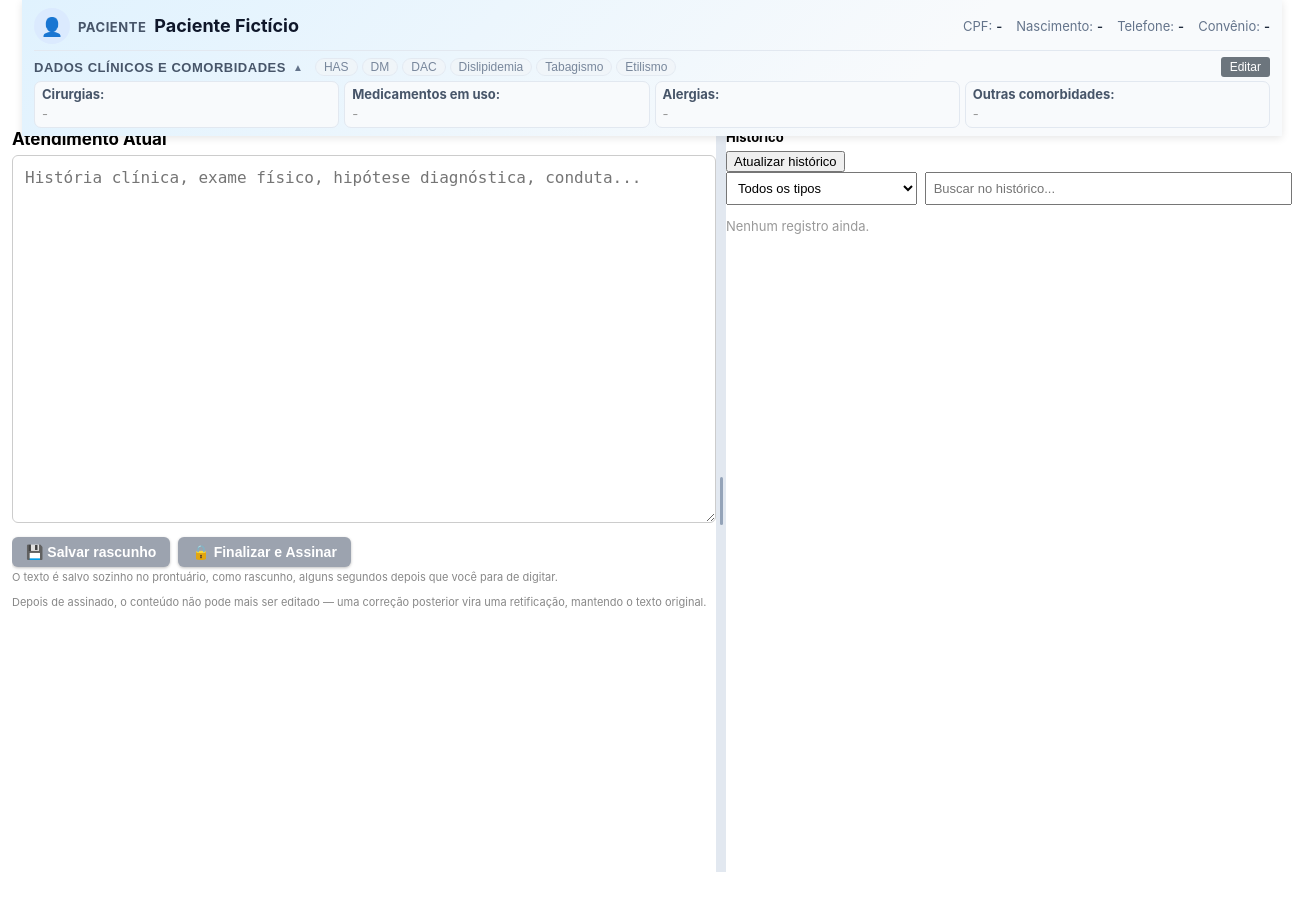
Test: salvamento automático no prontuário › digitar durante uma gravação: a cópia da aba guarda o texto novo, não o enviado
Expected: the text "Nenhum registro ainda." is shown, [726, 218, 869, 234]
Replace the text in the text box named "Atendimento atual" with "Antes" at (364, 339), box [12, 155, 716, 523]
Wait 10000 ms
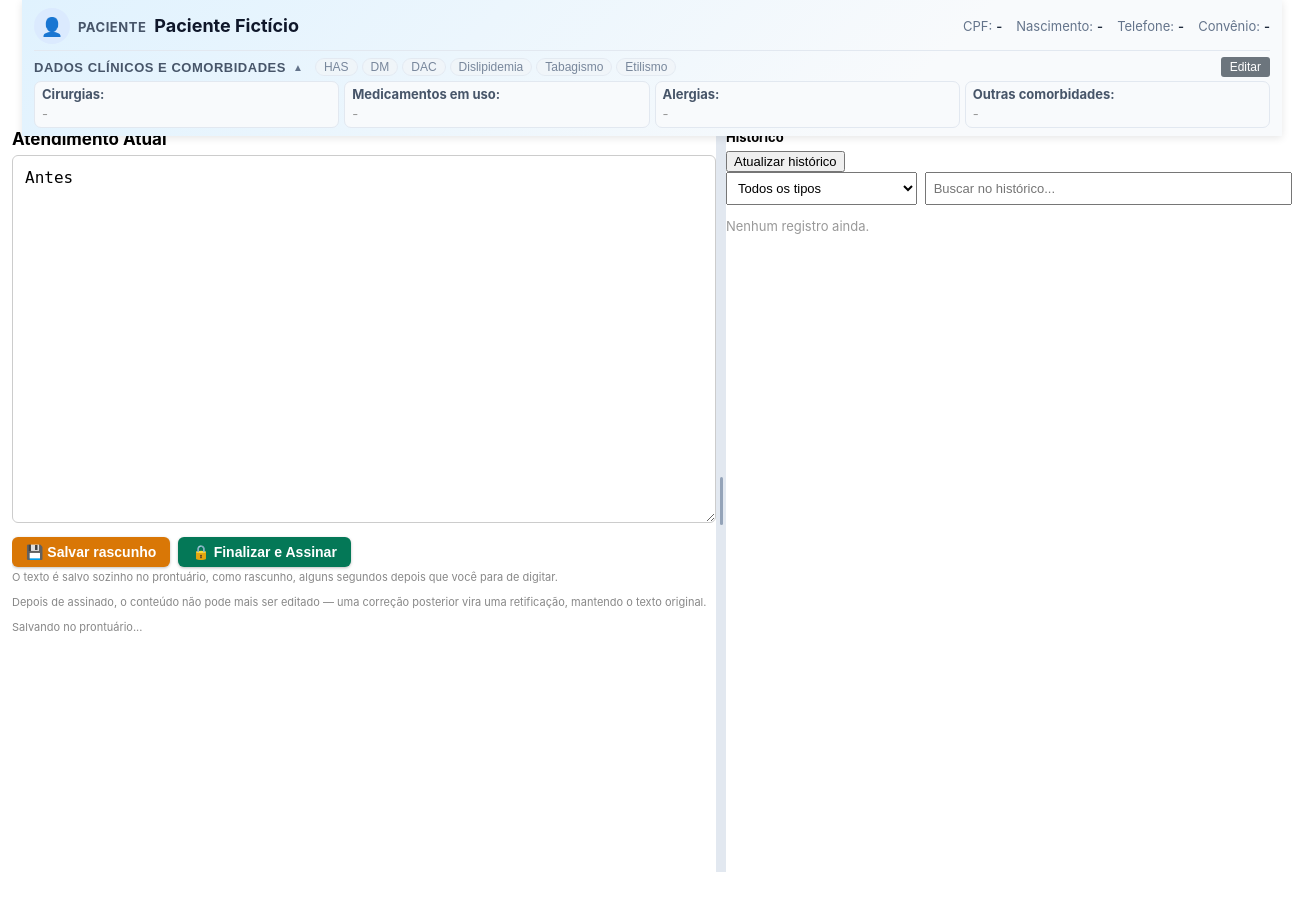
Replace the text in the text box named "Atendimento atual" with "Antes e depois" at (364, 339), box [12, 155, 716, 523]
Wait 2000 ms
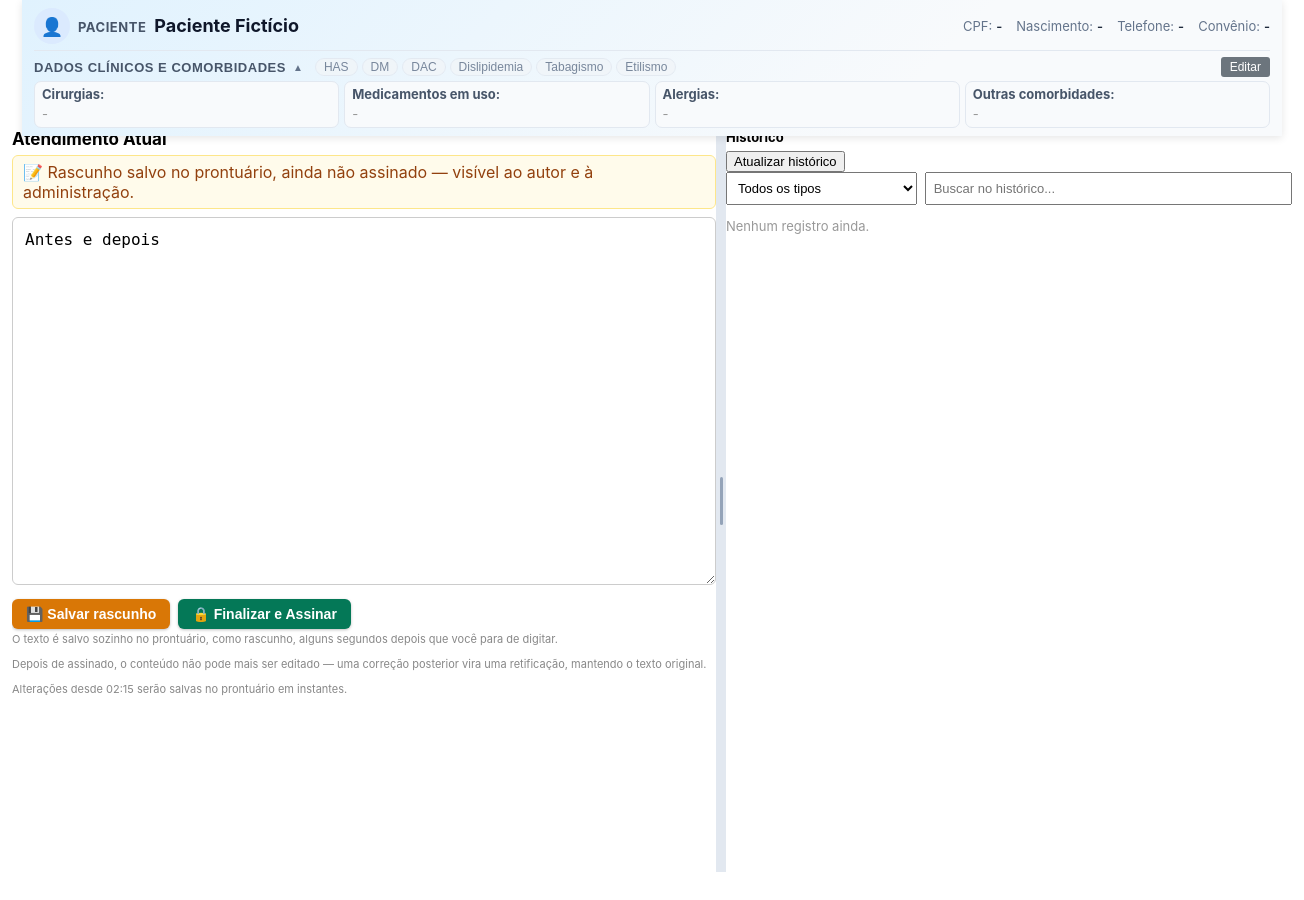
Now the message shows "serão salvas no prontuário em instantes", box [12, 682, 347, 696]
